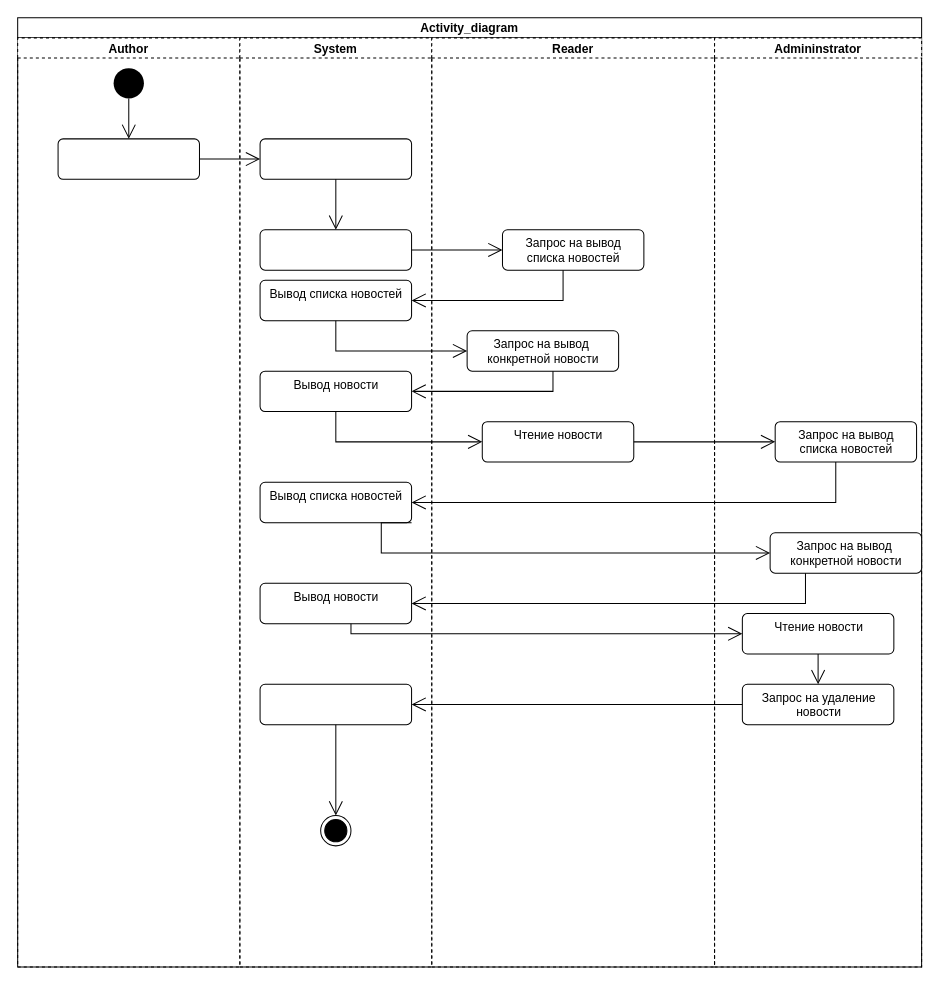
Image size: 939x985. Some labels were removed from this diagram. The centre of each missing label's shape, as x and y in pixels:
Запись новости в базу данных: (335,249)
Написание заголовка и текста новости: (128,158)
Создание новости и прикрепление автора к ней: (335,158)
Удаление новости из базы данных: (335,704)
